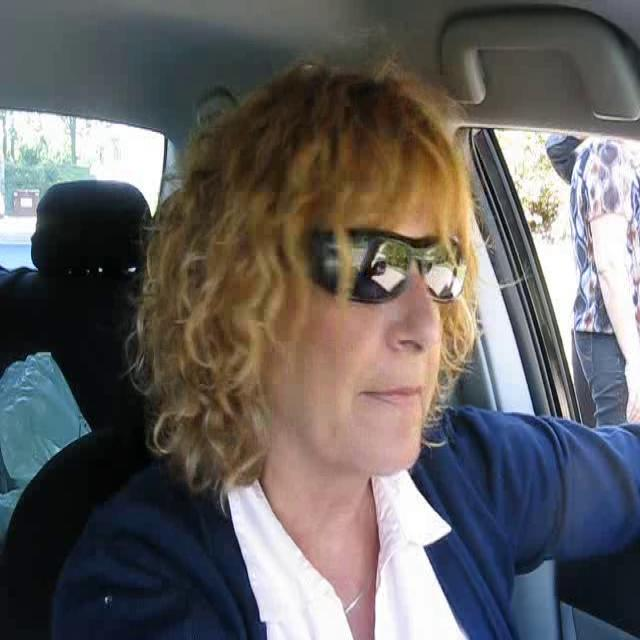close: (357, 372, 427, 414)
